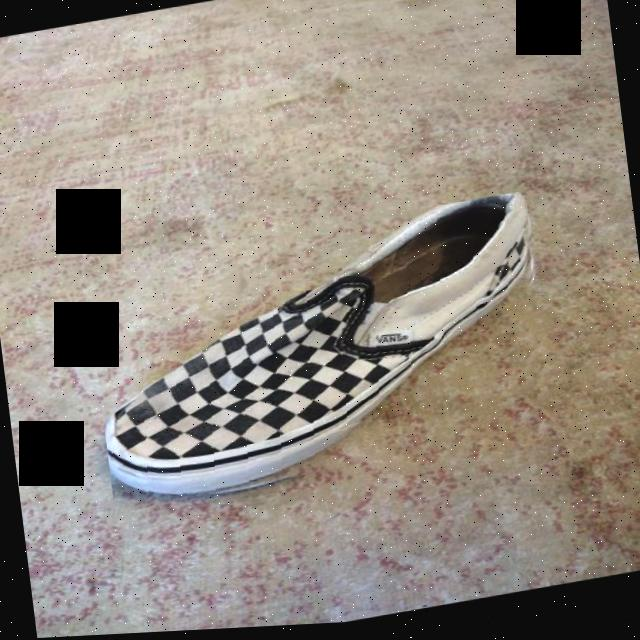shoe: (85, 195, 558, 516)
